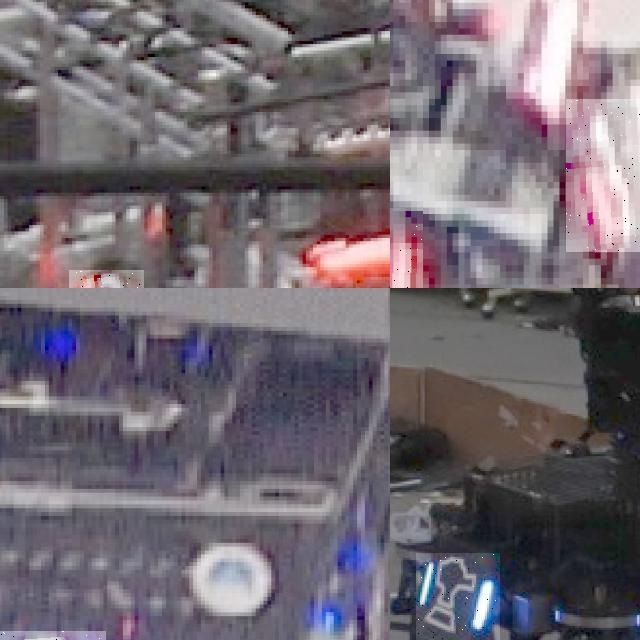Bs: (416, 553, 500, 640)
R2: (68, 270, 144, 288)
R3: (565, 98, 640, 252)
